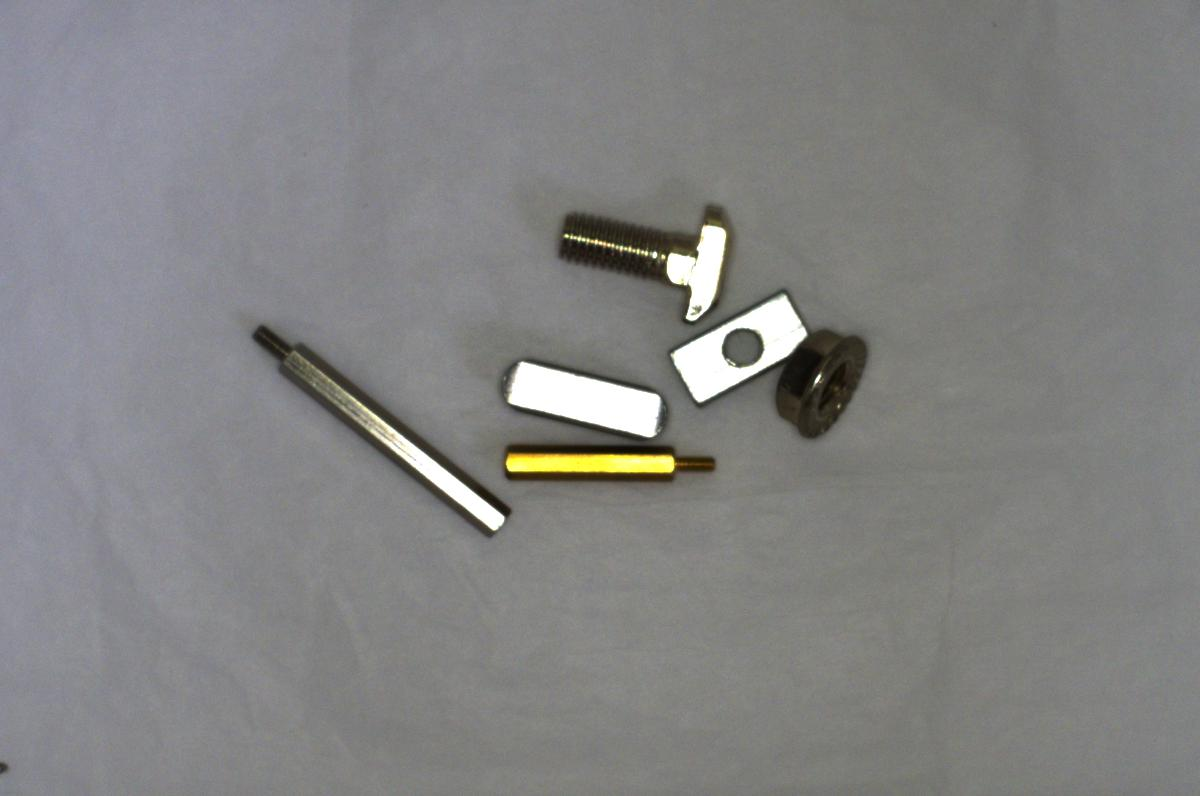Flange nut: (771, 318, 875, 439)
Hexagon pillar: (493, 430, 717, 490)
Hexagonal steel column: (253, 319, 514, 536)
Keybar: (495, 349, 667, 441)
Rectangular nut: (659, 283, 813, 401)
T-shaped screw: (535, 187, 727, 327)
